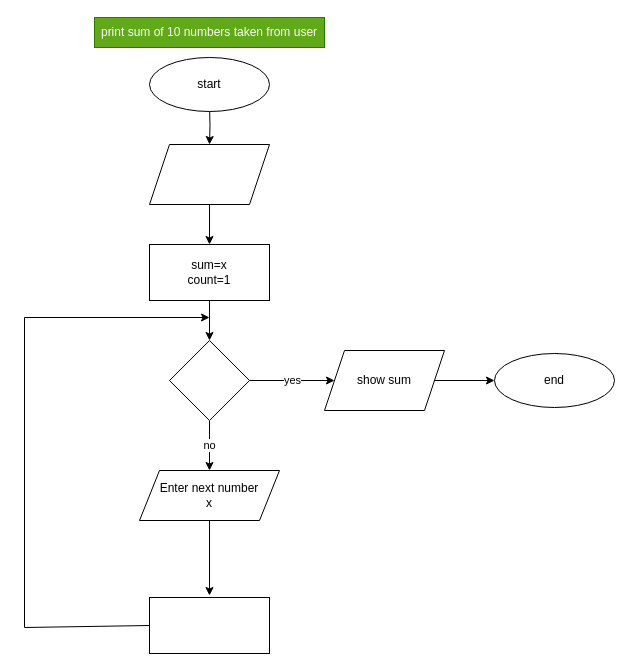
This 632x671 diagram has some shape labels left out. The box of each missing label's shape, as (x1, y1, x2, y2) in pixels:
Enter a number x: (148, 144, 270, 204)
if count>10: (168, 340, 250, 420)
sum=sum+x count=count+1: (148, 596, 270, 654)
